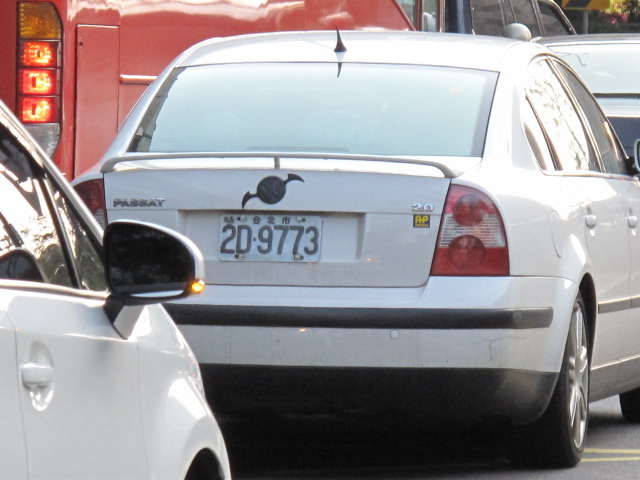plate: (218, 210, 325, 266)
